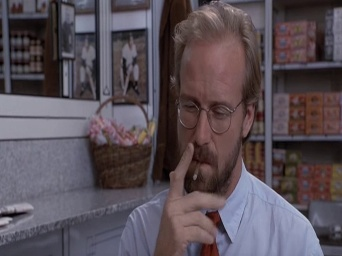smoke: (192, 158, 202, 182)
